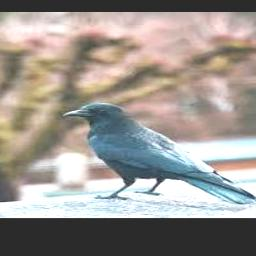Crow: (63, 102, 256, 204)
